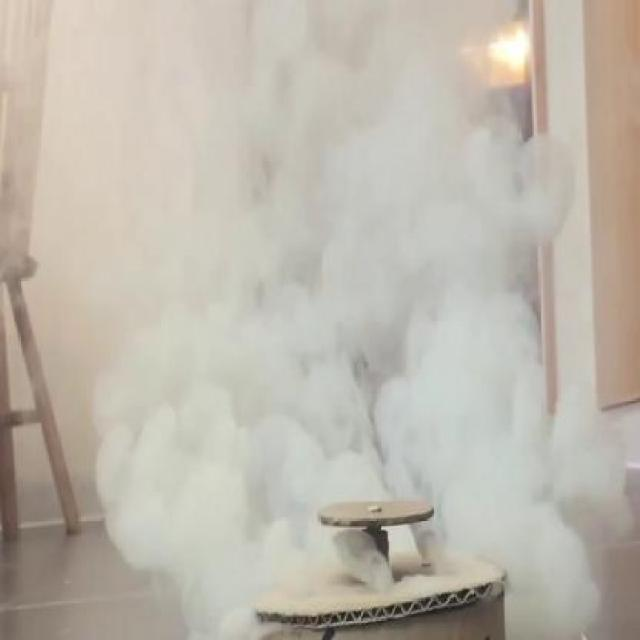smoke: (91, 12, 614, 620)
